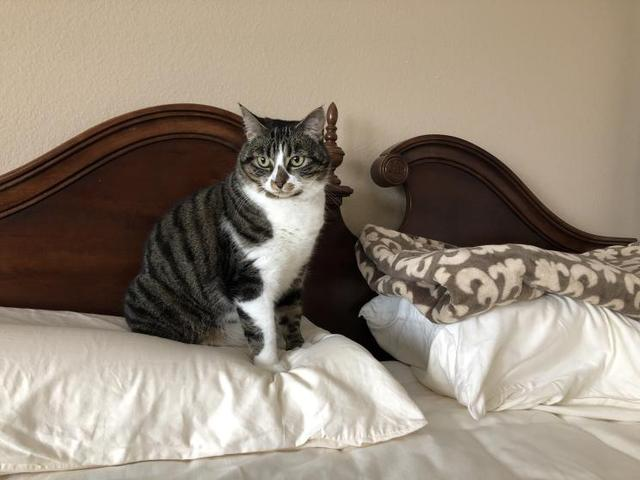playdoh: (120, 102, 333, 362)
